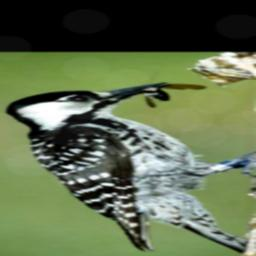Woodpecker: (3, 82, 247, 256)
